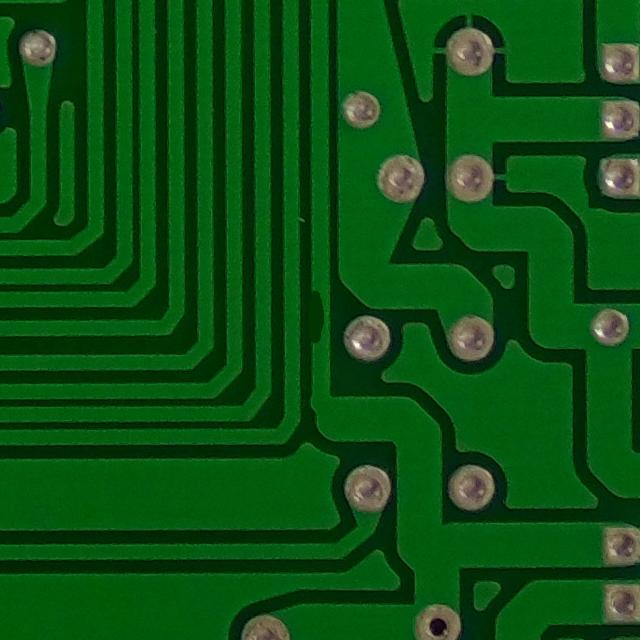mouse_bite: (301, 282, 339, 358)
